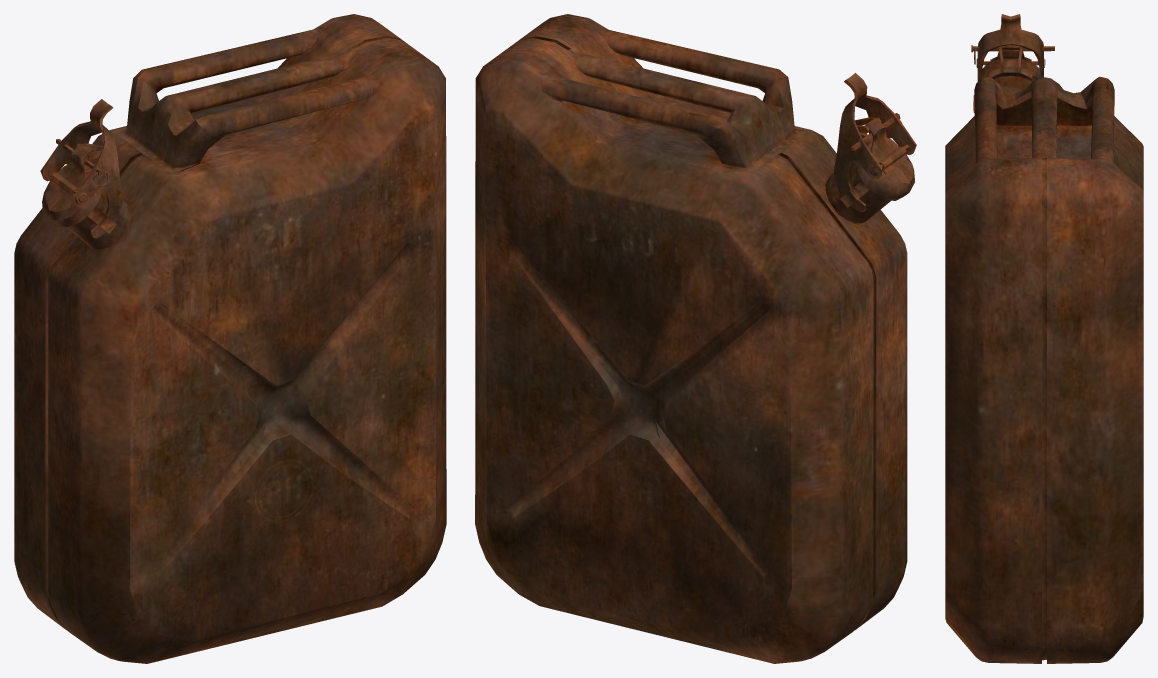
File: metal_jerrycan_green.glb
The picture shows the model from 3 angles, left to right: view 1: azimuth 30°, elevation 25°; view 2: azimuth 150°, elevation 25°; view 3: azimuth 270°, elevation 25°; orthographic projection. The views are drawn at different scales.
Visible parts, largest first — view 1: metal_jerrycan_green; view 2: metal_jerrycan_green; view 3: metal_jerrycan_green.
Part boxes in pixels (x1,y1,x2,y2): metal_jerrycan_green: [14, 14, 446, 663]; metal_jerrycan_green: [475, 14, 916, 663]; metal_jerrycan_green: [945, 14, 1143, 663].
Size of what is drawn, in the model's own units: 0.3608 by 0.5 by 0.1709.
1 material, 1 textured.
